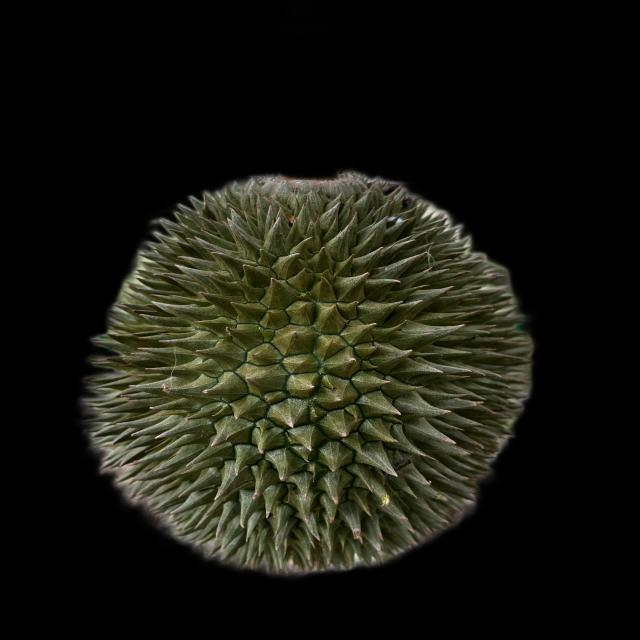immature: (78, 169, 533, 576)
